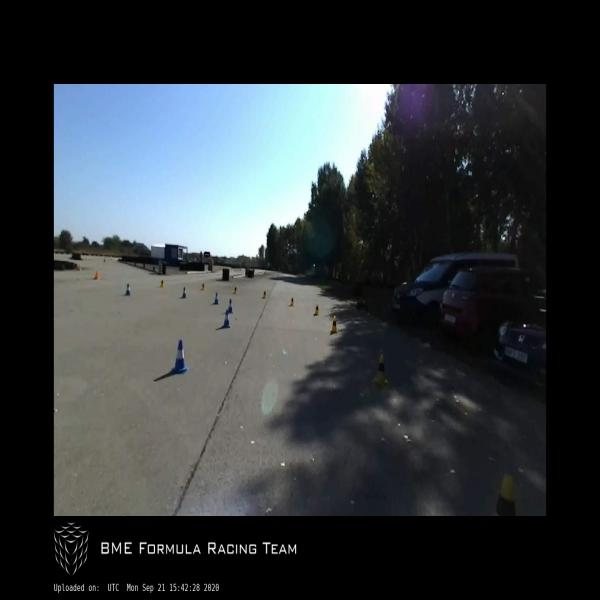blue_cone: (171, 340, 189, 375), (222, 308, 230, 328), (228, 299, 234, 313), (125, 282, 131, 296), (213, 293, 219, 305), (182, 287, 186, 299)
yellow_cone: (494, 474, 516, 516), (372, 354, 388, 386), (330, 314, 338, 334), (314, 303, 319, 316), (289, 296, 294, 306), (233, 285, 238, 295), (262, 289, 266, 299), (160, 278, 164, 287), (202, 281, 204, 291)
